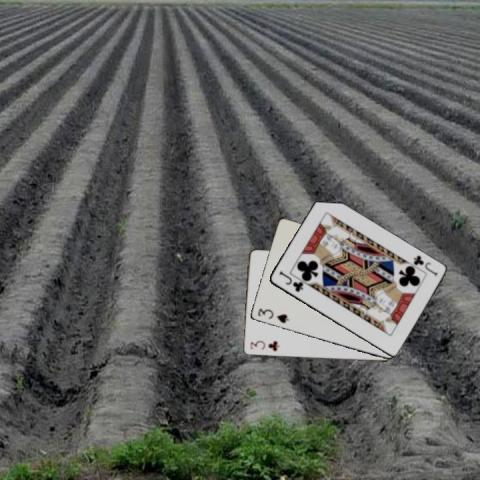3c: (247, 337, 280, 353)
3s: (255, 306, 290, 325)
Jc: (410, 252, 439, 277), (276, 268, 304, 293)
